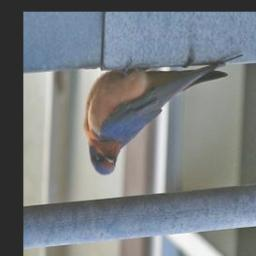Swallow: (83, 54, 244, 176)
